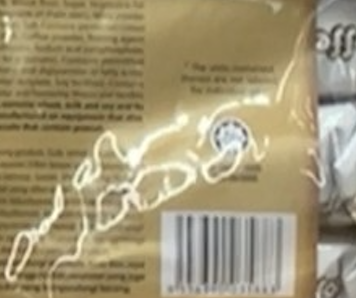halal: (220, 129, 247, 149)
